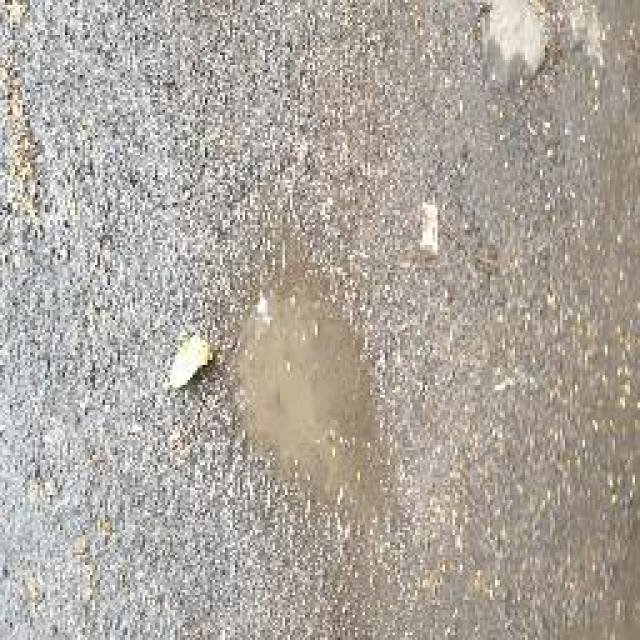puddle: (226, 271, 391, 508)
